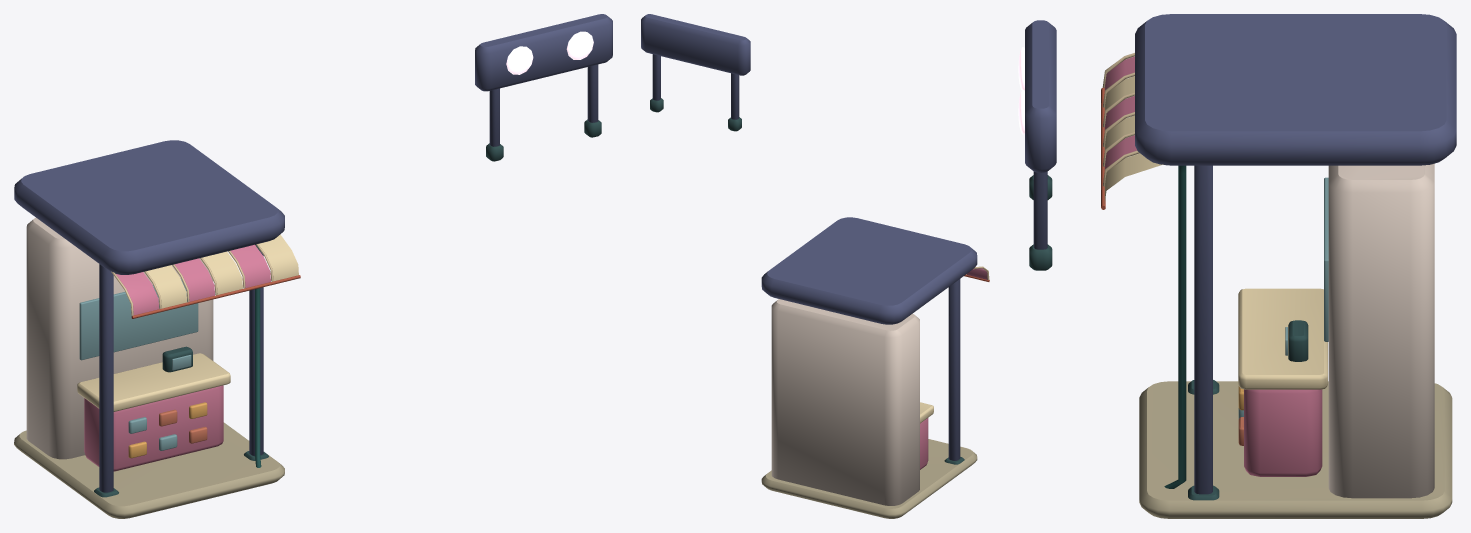
File: japan_restaurant_4.glb
3 views of the same model, side by side, from view 1: azimuth 30°, elevation 25°; view 2: azimuth 150°, elevation 25°; view 3: azimuth 270°, elevation 25° (orthographic). The views are drawn at different scales.
Visible parts, largest first — view 1: JapanRestaurant4; view 2: JapanRestaurant4; view 3: JapanRestaurant4.
Boxes of the visible parts, box(x1,y1,x2,y2) form: JapanRestaurant4: box(14, 14, 612, 518); JapanRestaurant4: box(641, 14, 989, 518); JapanRestaurant4: box(1018, 14, 1456, 518).
Bounding box in the file's own units: 6.12 × 5.34 × 3.47.
